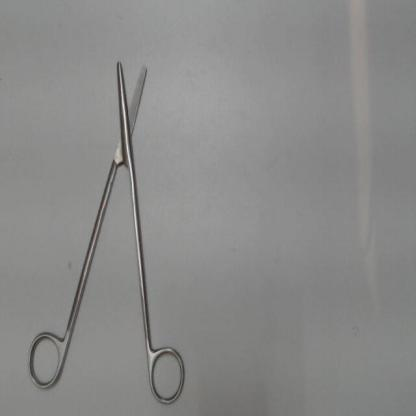9 Metzenbaum Scissors: (24, 55, 194, 408)
